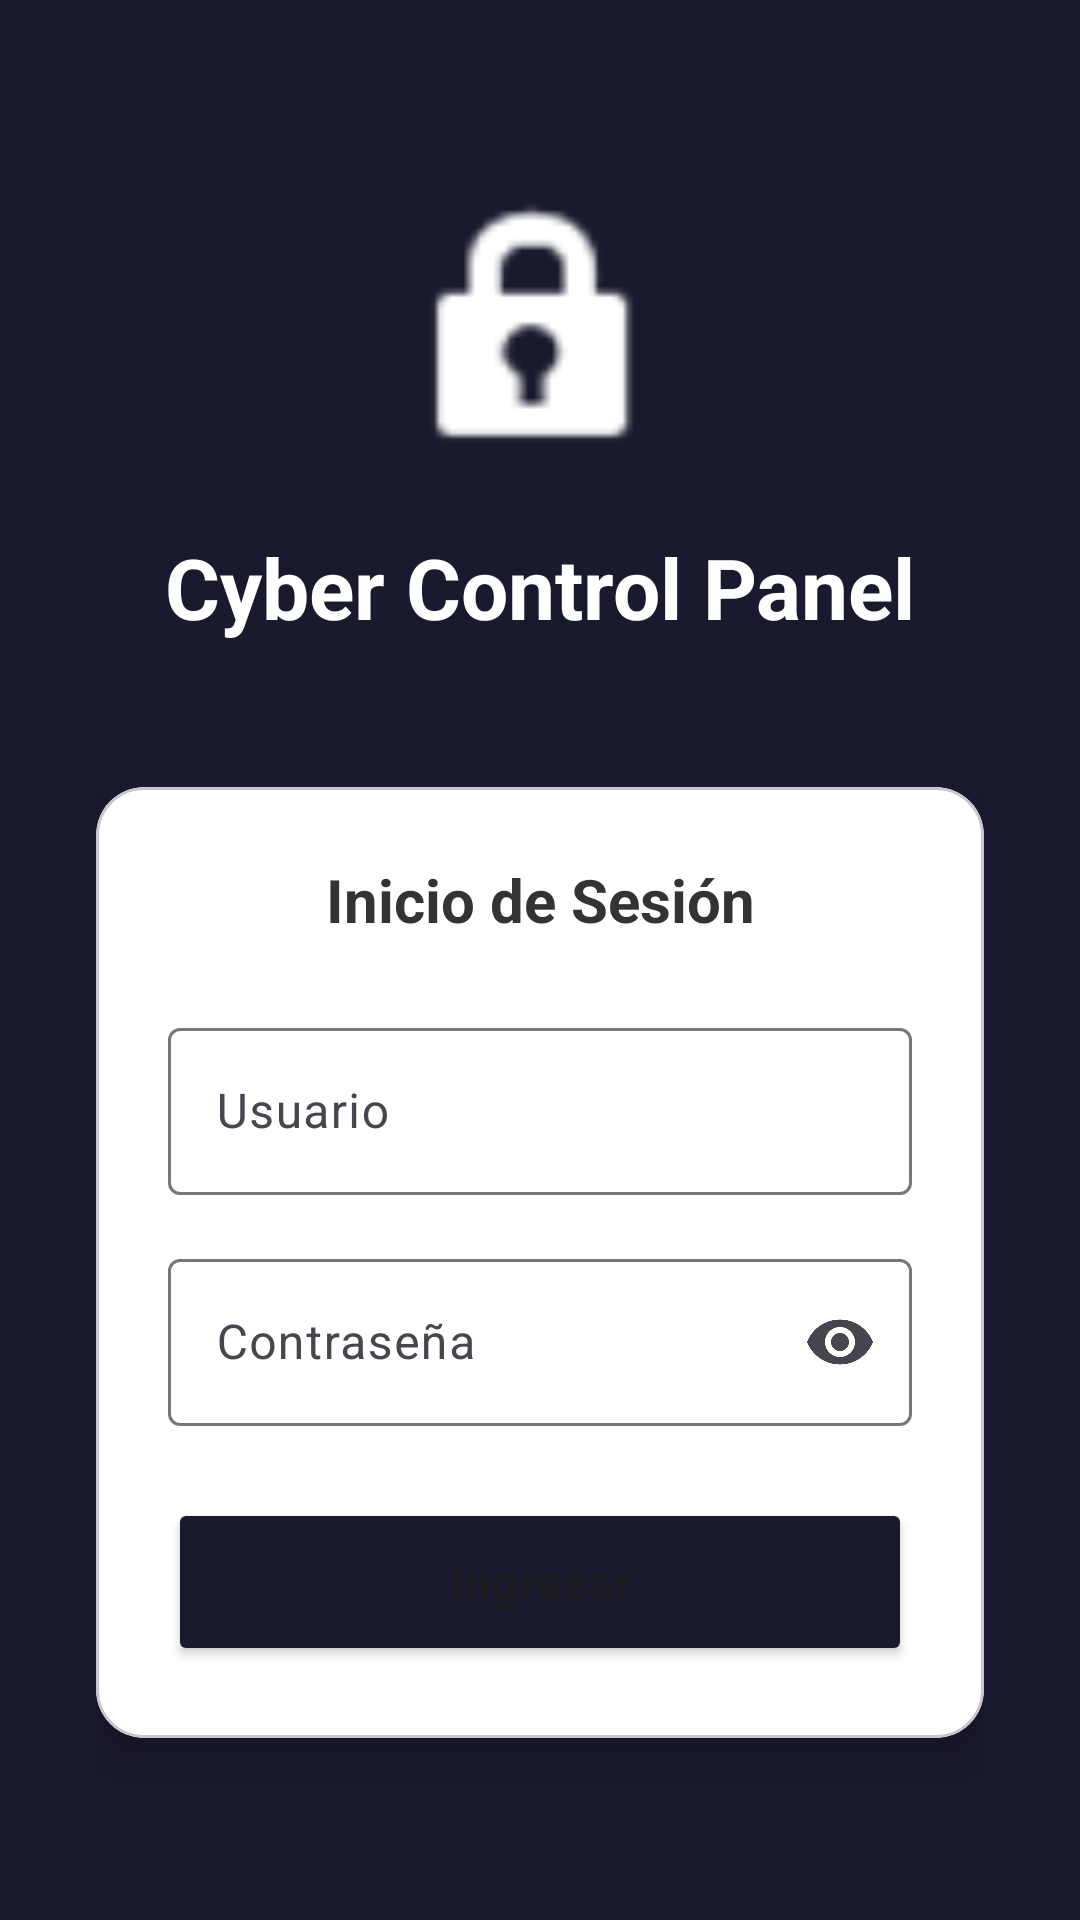

Point at icon controls on the screen. Image size 1080px x 1920px, points as [x,y].
lock idle: [533,323]
